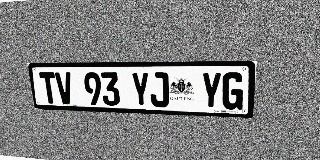3: (100, 72, 120, 106)
9: (83, 72, 103, 105)
G: (222, 72, 244, 110)
J: (149, 72, 169, 108)
T: (39, 72, 58, 104)
V: (55, 72, 74, 104)
Y: (201, 72, 222, 109), (131, 72, 150, 107)
